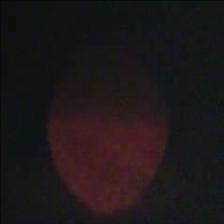fertile: (46, 50, 168, 214)
